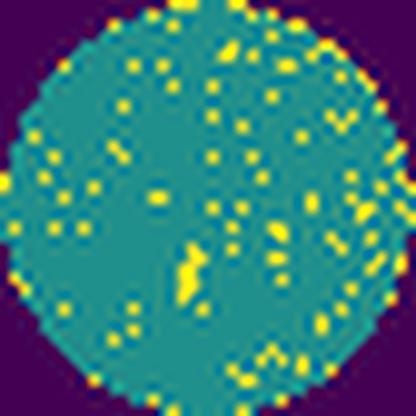Loc: (176, 242, 207, 301)
